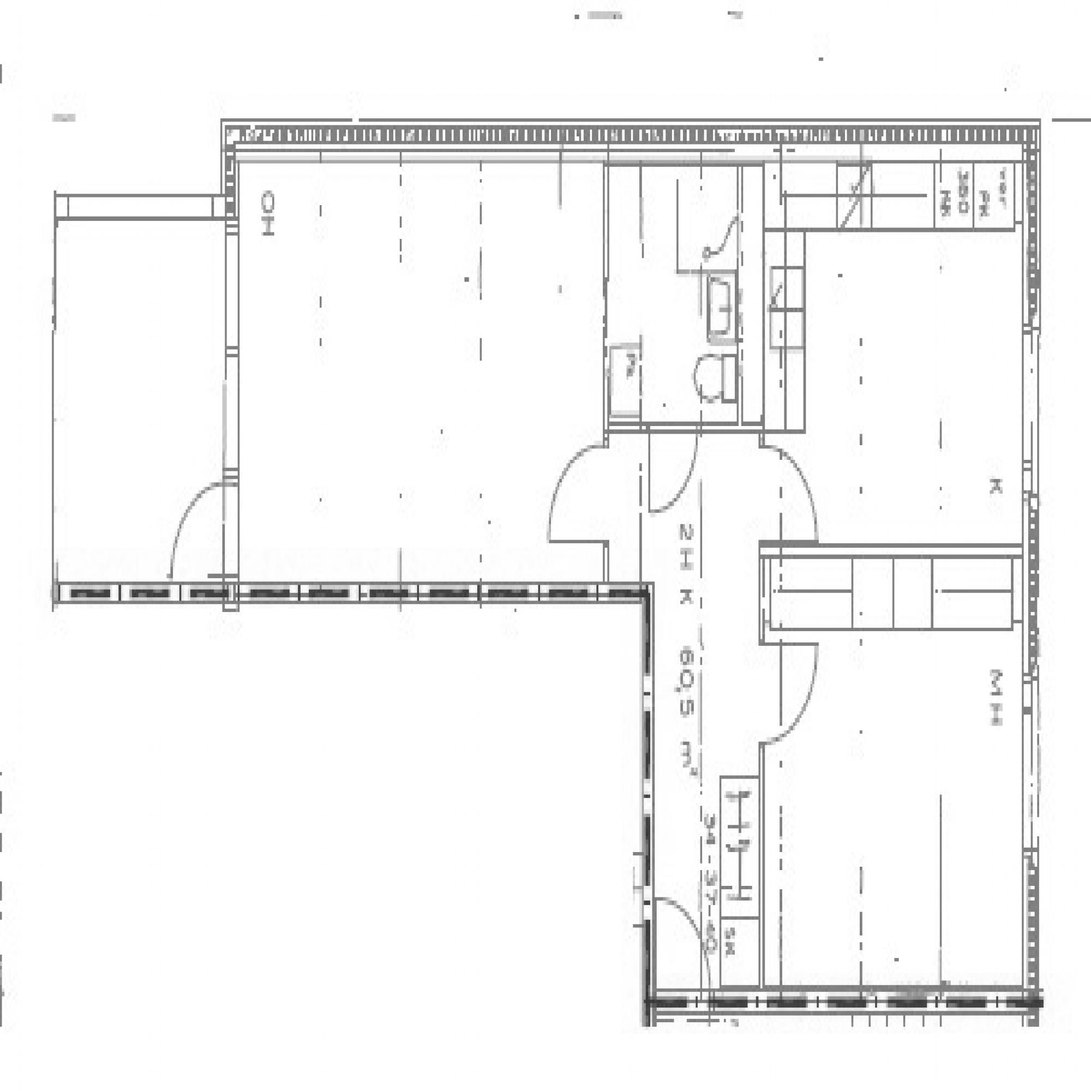wall: (223, 119, 1041, 160), (1023, 222, 1041, 1013), (641, 984, 1041, 1014), (222, 580, 653, 604), (223, 119, 239, 582), (744, 160, 765, 423), (641, 580, 653, 1013), (54, 580, 223, 604), (760, 542, 1041, 556), (760, 423, 765, 1013), (603, 119, 609, 604), (1014, 119, 1041, 222), (738, 119, 743, 432), (609, 423, 760, 432)
